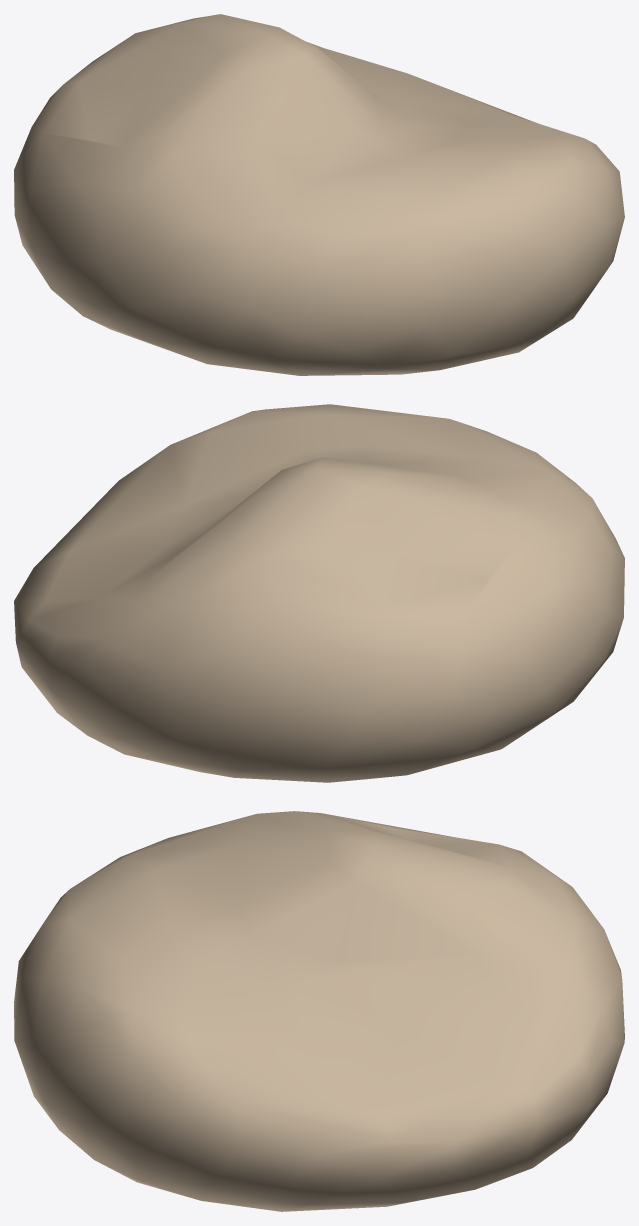
Rendered from bread_dough.glb.
3 views of the same model, one above another, from view 1: azimuth 30°, elevation 25°; view 2: azimuth 150°, elevation 25°; view 3: azimuth 270°, elevation 25° (orthographic). The views are drawn at different scales.
Parts seen in each view (by area): view 1: Cube; view 2: Cube; view 3: Cube.
Part boxes in pixels (<box>): Cube: <box>14,14,624,375</box>; Cube: <box>14,404,624,782</box>; Cube: <box>14,811,624,1211</box>.
Size of the model in its own units: 31.04 by 14.38 by 30.93.
Materials: 1 (1 with a texture image).
